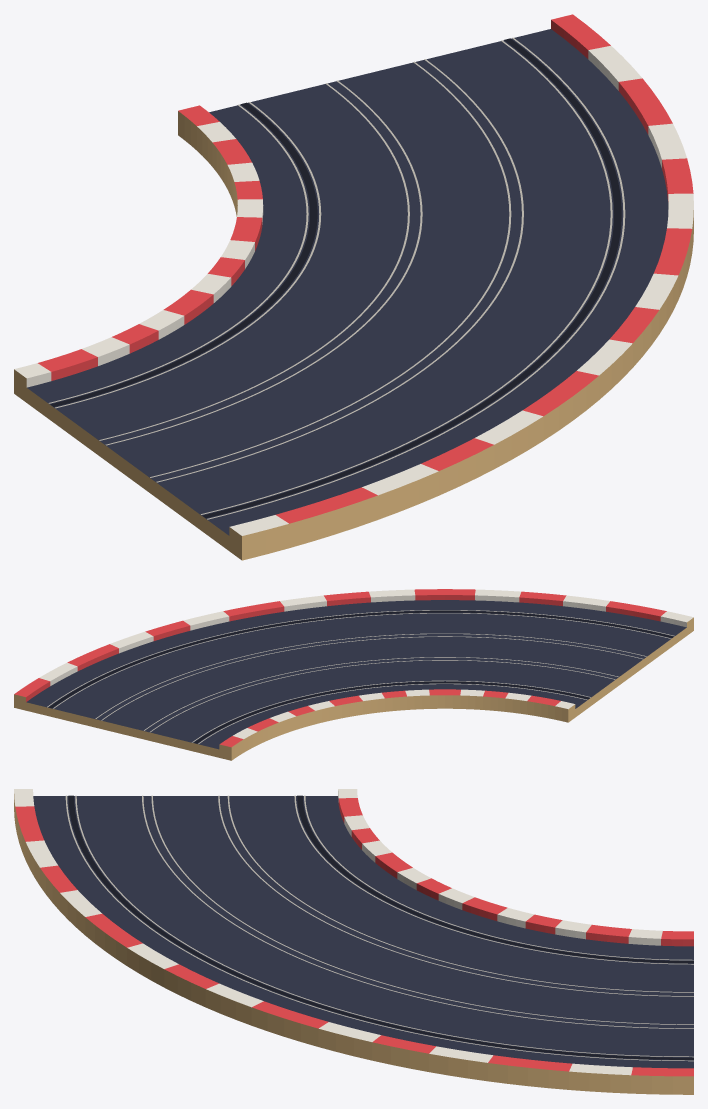
File: Track_4L_Curve90_R.fbx
3 renders of one model, top to bottom at view 1: azimuth 30°, elevation 25°; view 2: azimuth 150°, elevation 25°; view 3: azimuth 270°, elevation 25°, orthographic. The views are drawn at different scales.
Visible parts, largest first — view 1: Track_4L_Curve90_R; view 2: Track_4L_Curve90_R; view 3: Track_4L_Curve90_R.
Part boxes in pixels (<box>): Track_4L_Curve90_R: <box>14,14,693,560</box>; Track_4L_Curve90_R: <box>14,589,693,760</box>; Track_4L_Curve90_R: <box>14,789,693,1094</box>.
Bounding box in the file's own units: 10.7 × 0.32 × 10.7.
